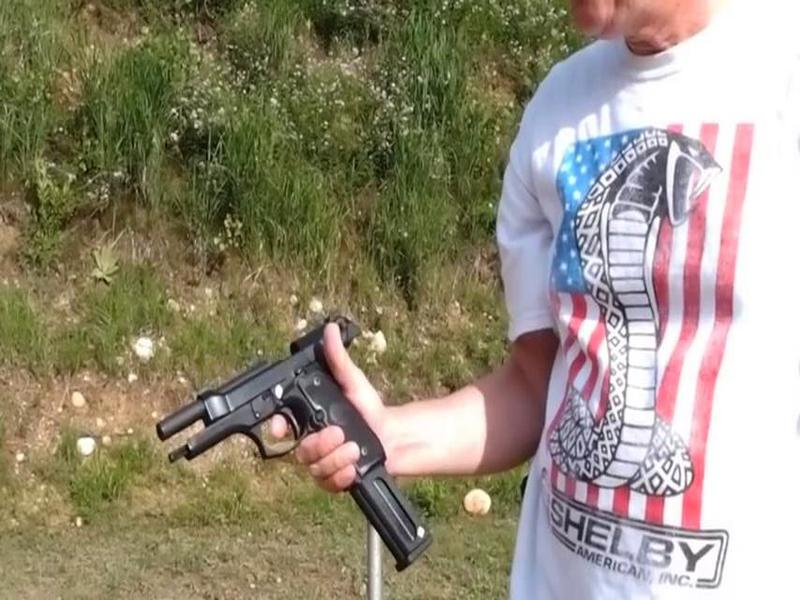Pistola: (131, 318, 394, 491)
